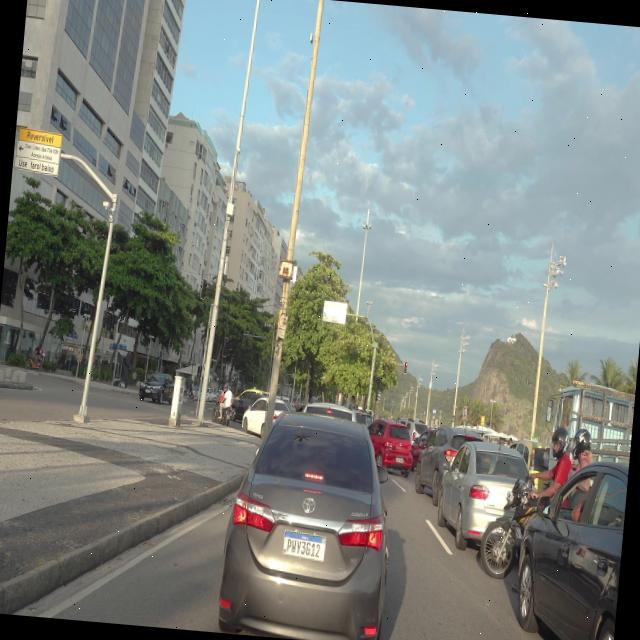License-plate: (282, 529, 328, 562)
